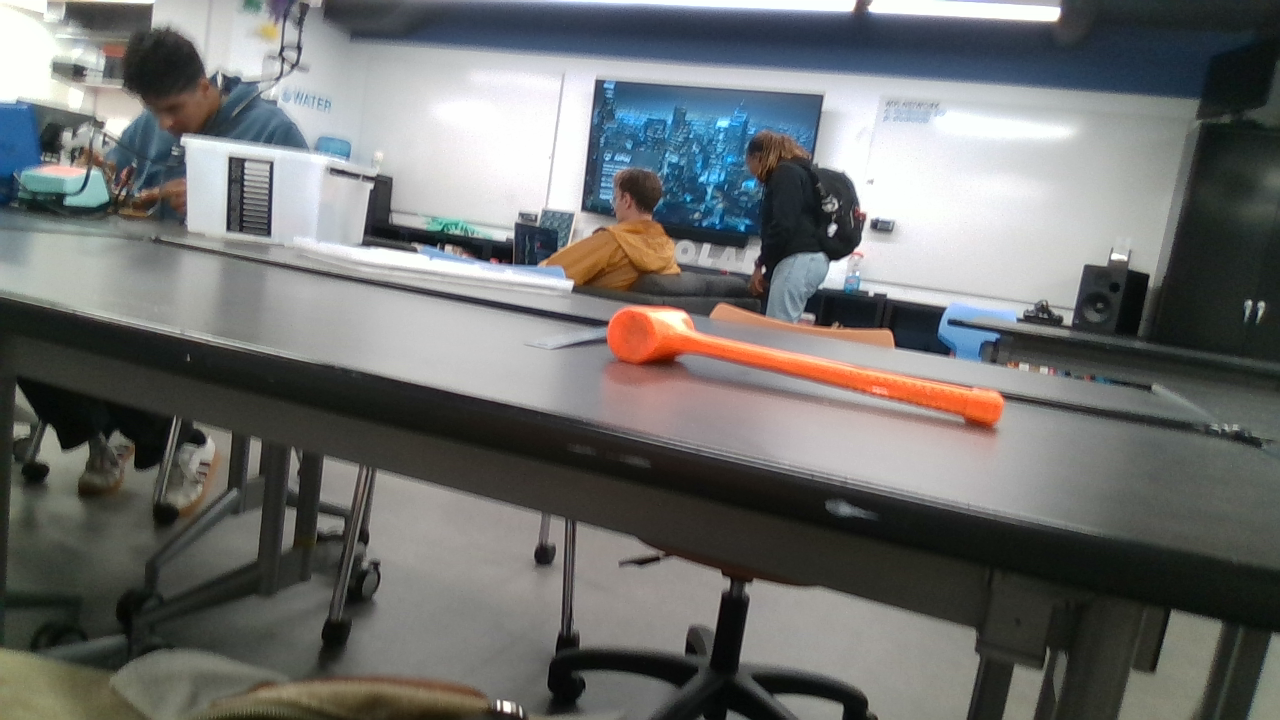Orange Hammer: (604, 305, 1004, 427)
